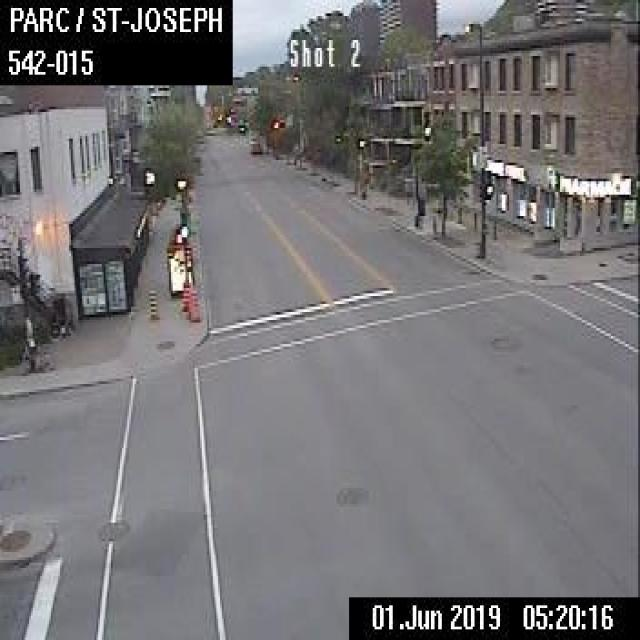construction: (146, 285, 158, 318), (188, 287, 198, 320), (181, 283, 189, 309)
vehicle: (247, 133, 262, 152)
